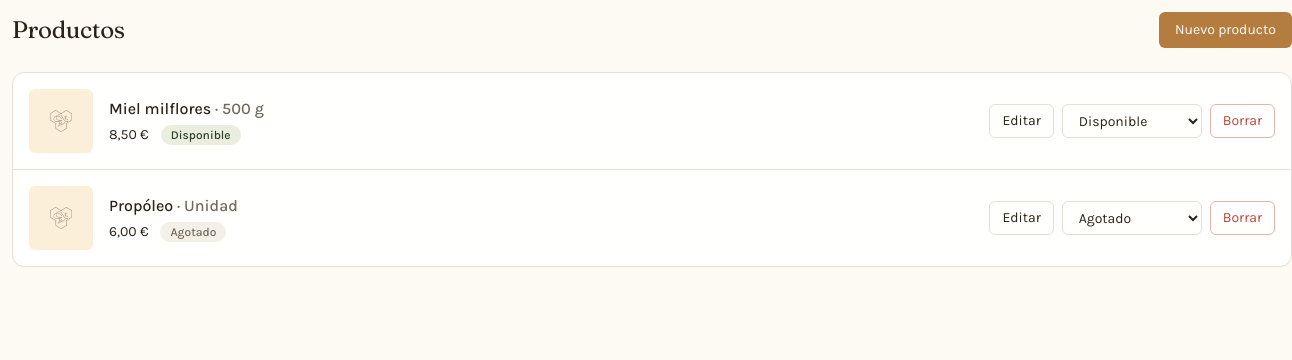
Scenario: AdminProductsView › si falla el guardado, el desplegable vuelve al estado real y se avisa
Select "Agotado" in the dropdown named "Disponibilidad de Miel milflores (500 g)". click: (1132, 121)
box: 1062,104 -> 1202,138
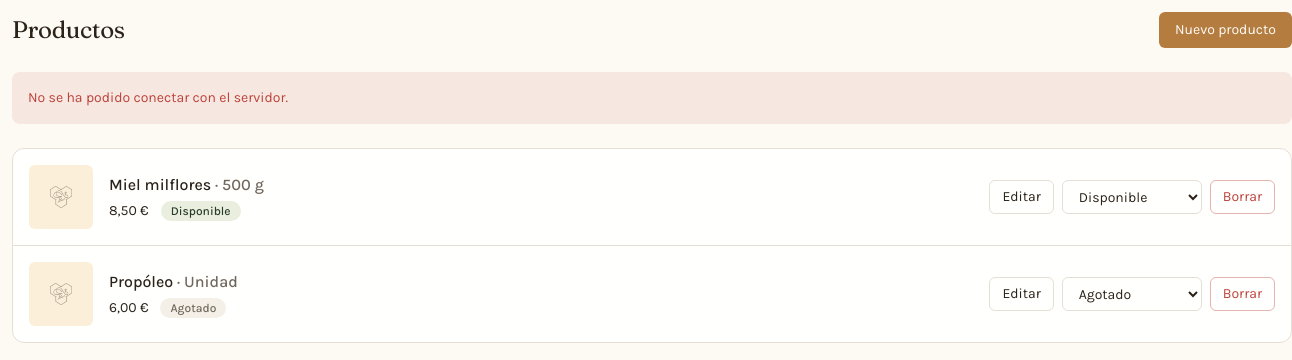
Now the message "No se ha podido conectar con el servidor." is shown, box 12,72 -> 1291,124
